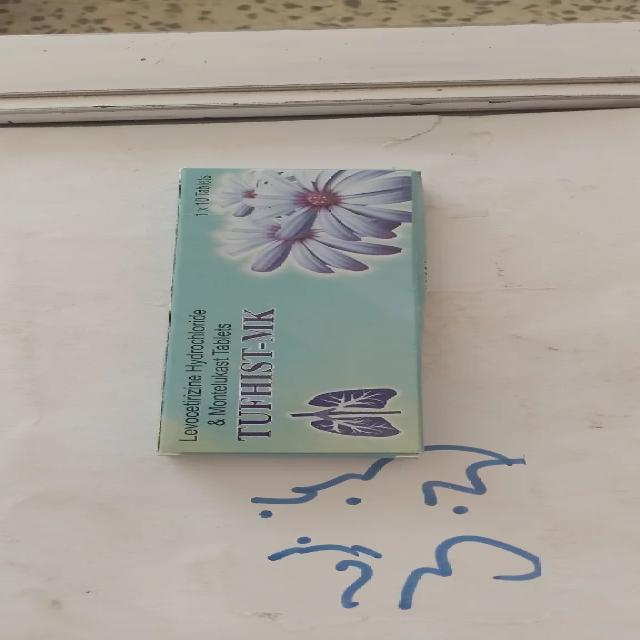drug-name: (231, 307, 277, 442)
